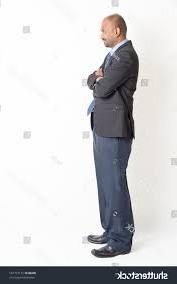Human: (76, 13, 148, 252)
